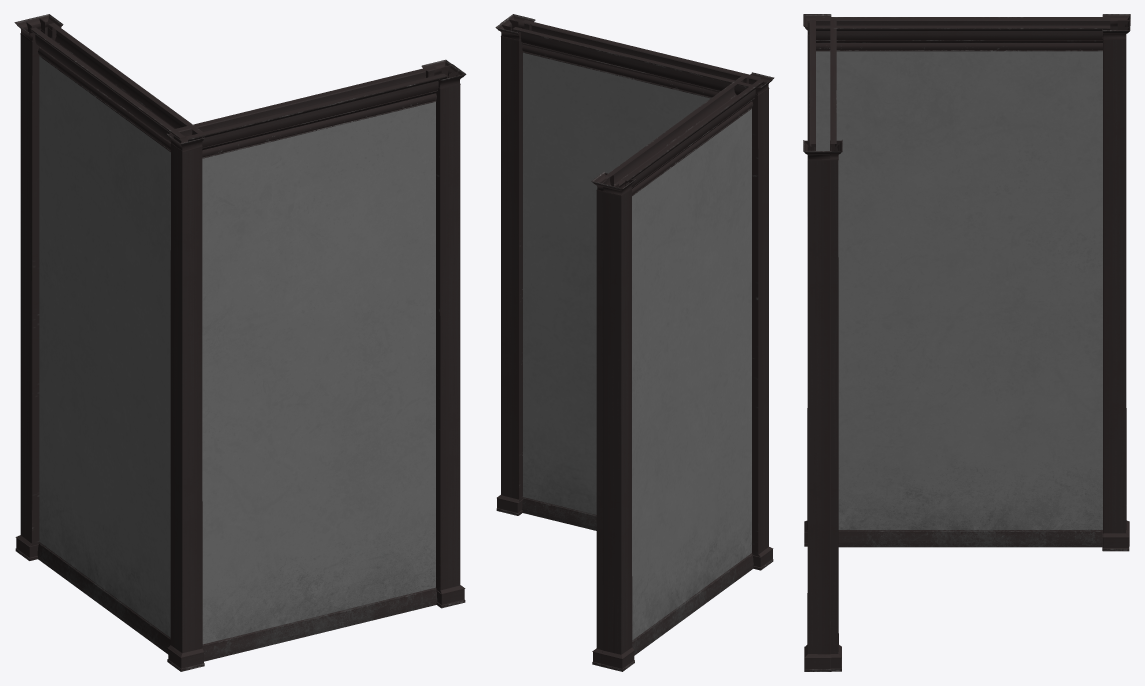
Rendered from sm_wall_narrow_corner_TS.FBX.
The picture shows the model from 3 angles, left to right: view 1: azimuth 30°, elevation 25°; view 2: azimuth 150°, elevation 25°; view 3: azimuth 270°, elevation 25°; orthographic projection. The views are drawn at different scales.
Visible parts, largest first — view 1: sm_wall_006, Object005, Object003, Object004, Object001, Object006; view 2: Object005, Object001, Object004, Object007, sm_wall_006, Object008, Object006; view 3: Object006, Object003, Object008, Object007, Object005, sm_wall_006, Object001, Object004.
Boxes of the visible parts, box(x1,y1,x2,y2) form: sm_wall_006: box(167, 73, 447, 671); Object005: box(30, 27, 184, 654); Object003: box(436, 64, 466, 608); Object004: box(14, 17, 44, 560); Object001: box(175, 66, 436, 143); Object006: box(49, 23, 202, 134); Object005: box(622, 80, 763, 655); Object001: box(512, 27, 751, 530); Object004: box(600, 179, 635, 671); Object007: box(495, 18, 522, 515); sm_wall_006: box(522, 20, 774, 570); Object008: box(591, 171, 618, 666); Object006: box(605, 75, 746, 188); Object006: box(816, 25, 1110, 547); Object003: box(803, 140, 831, 671); Object008: box(1102, 19, 1130, 551); Object007: box(814, 139, 842, 671); Object005: box(816, 17, 1110, 25); sm_wall_006: box(803, 14, 831, 546); Object001: box(830, 19, 836, 150); Object004: box(1102, 14, 1130, 546).
Size of the model in its own units: 567 by 1001 by 570.
1 material, 1 textured.
